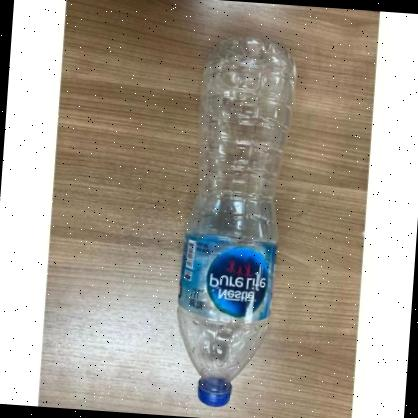bottle: (167, 30, 301, 412)
cap: (196, 382, 233, 408)
label: (178, 238, 278, 322)
